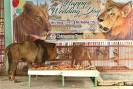lion: (6, 39, 60, 83)
